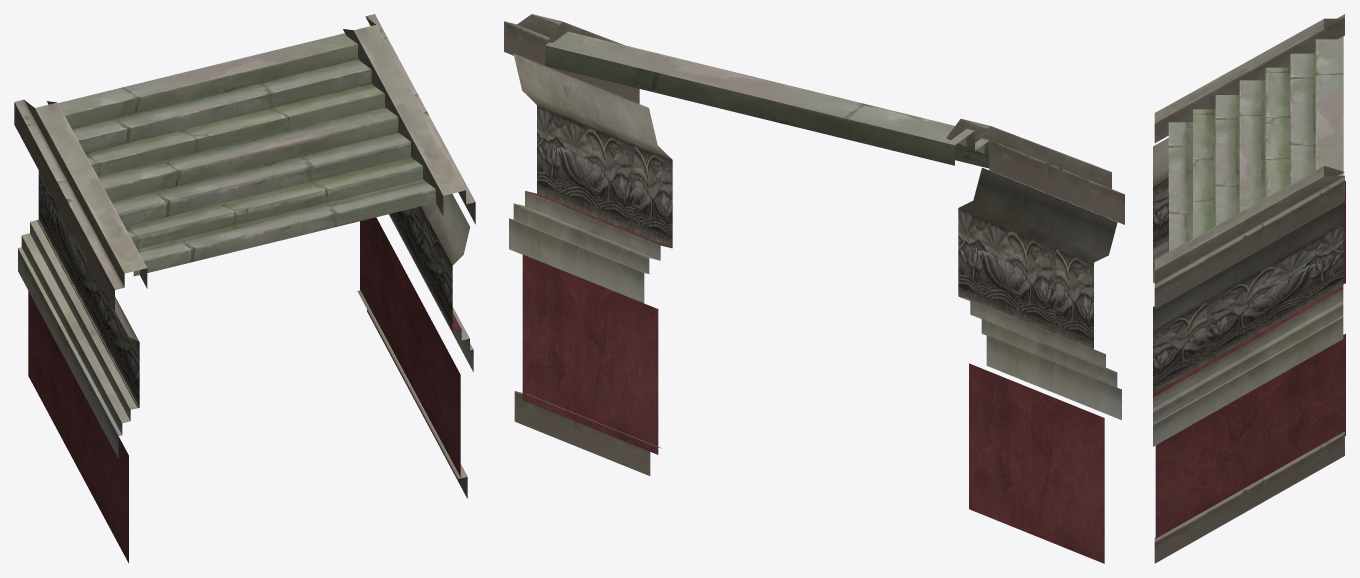
File: cj_xinshou_louti01_55_45_9020out.fbx
3 renders of one model, left to right at view 1: azimuth 30°, elevation 25°; view 2: azimuth 150°, elevation 25°; view 3: azimuth 270°, elevation 25°, orthographic. The views are drawn at different scales.
Parts seen in each view (by area): view 1: cj_xinshou_louti01; view 2: cj_xinshou_louti01; view 3: cj_xinshou_louti01.
Boxes of the visible parts, <box> form: cj_xinshou_louti01: <box>14,14,475,563</box>; cj_xinshou_louti01: <box>504,14,1124,563</box>; cj_xinshou_louti01: <box>1153,14,1345,563</box>.
Size of the model in its own units: 5.7 by 6.2 by 2.8.
